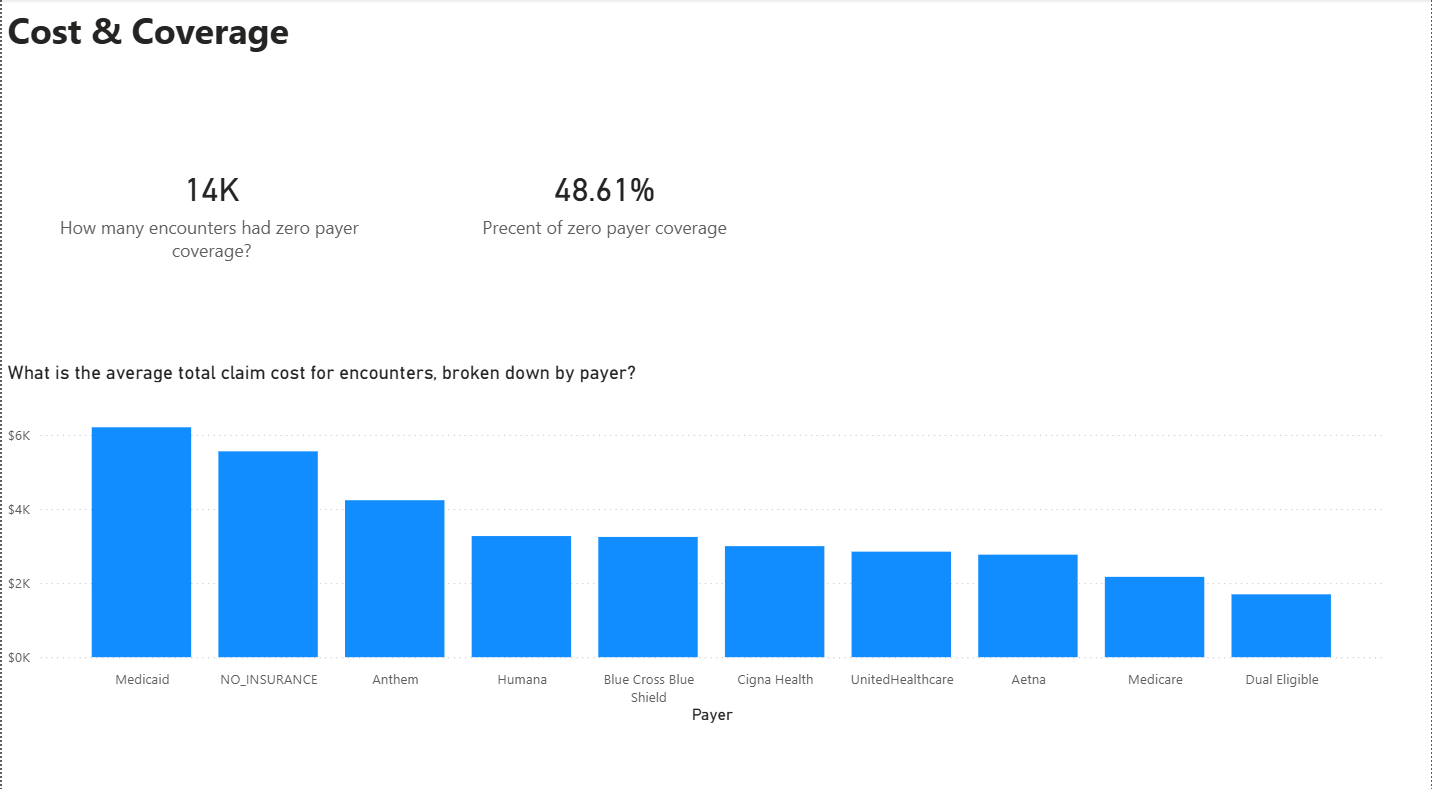

What the dashboard file says about the page in this screenshot:
{"tool":"powerbi","page":{"name":"Cost & Coverage","canvas":[1280,720],"ordinal":2},"visuals":[{"type":"card","fields":{"Values":["Sum(public mart_zero_payer_coverage.number_of_zero)"]},"box":[7.8,79.6,359.3,200.1],"z":0},{"type":"columnChart","title":"What is the average total claim cost for encounters, broken down by payer?","fields":{"Category":["public mart_avg_claim_cost_by_payer.name"],"Y":["Sum(public mart_avg_claim_cost_by_payer.avg_claim_cost)"]},"box":[0,324.4,1242.1,329.2],"z":1000},{"type":"card","fields":{"Values":["Sum(public mart_zero_payer_coverage.pct)"]},"box":[367.1,79.6,344.8,200.1],"z":2000},{"type":"textbox","box":[0,0,1280,79.6],"z":3000}]}

Visuals, with their boxes in screenshot pixels (x1, y1, x2, y2), scaled from the page's 1280x720 canvas onto the 1432x789 screenshot:
card - Sum(public mart_zero_payer_coverage.number_of_zero): left=9, top=87, right=411, bottom=307
"What is the average total claim cost for encounters, broken down by payer?" columnChart: left=0, top=355, right=1390, bottom=716
card - Sum(public mart_zero_payer_coverage.pct): left=411, top=87, right=796, bottom=307
textbox: left=0, top=0, right=1431, bottom=87
